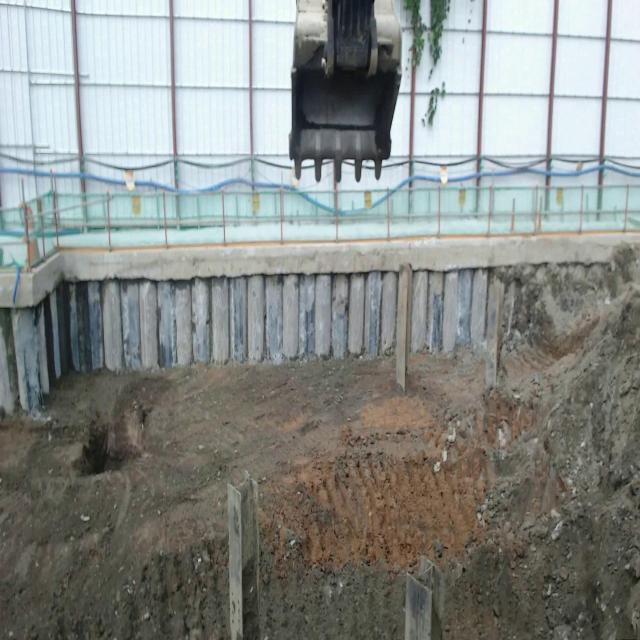cement: (0, 232, 640, 308)
red-sand: (0, 251, 640, 639)
